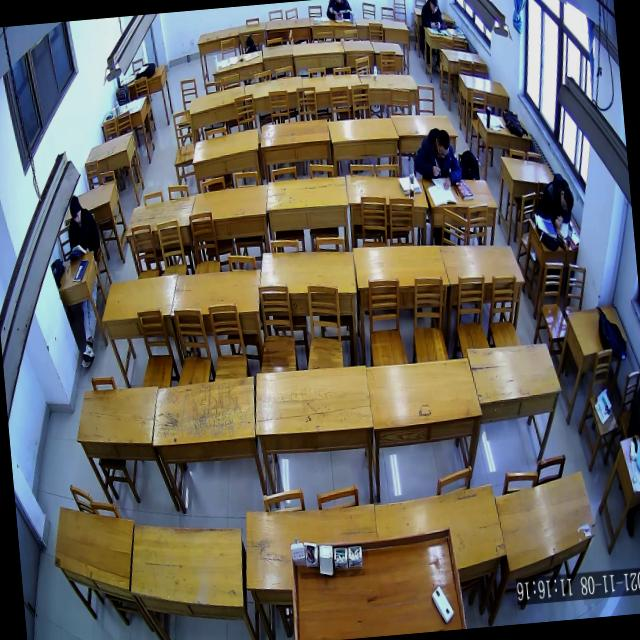down: (432, 126, 452, 162), (67, 194, 84, 227), (558, 184, 576, 215), (428, 0, 439, 15)
sit: (409, 122, 464, 194), (532, 170, 578, 233), (62, 190, 102, 260), (418, 0, 446, 31)
